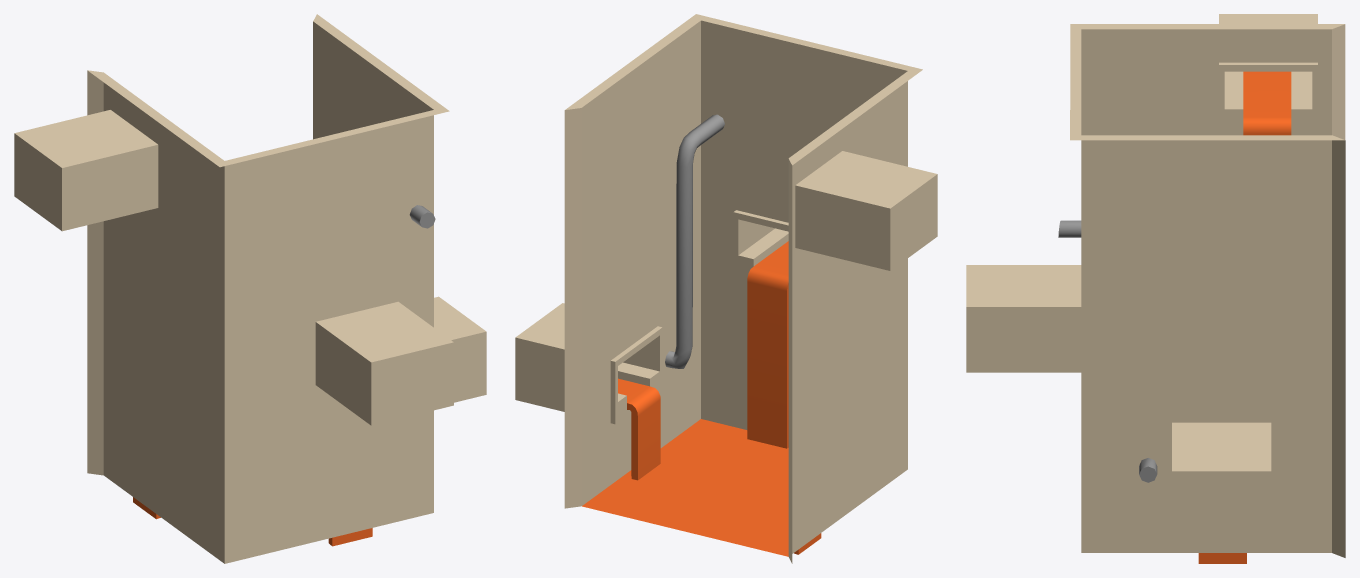
The model's file is Dest_VolcanicCanyon_Field.FBX.
3 views of the same model, side by side, from view 1: azimuth 30°, elevation 25°; view 2: azimuth 150°, elevation 25°; view 3: azimuth 270°, elevation 25° (orthographic). The views are drawn at different scales.
Visible parts, largest first — view 1: Box005; view 2: Box005; view 3: Box005.
Boxes of the visible parts, x1,y1,x2,y2 form: Box005: (14,14,486,563); Box005: (515,14,937,563); Box005: (966,14,1345,563).
Size of the model in its own units: 2661 by 2646 by 2099.
